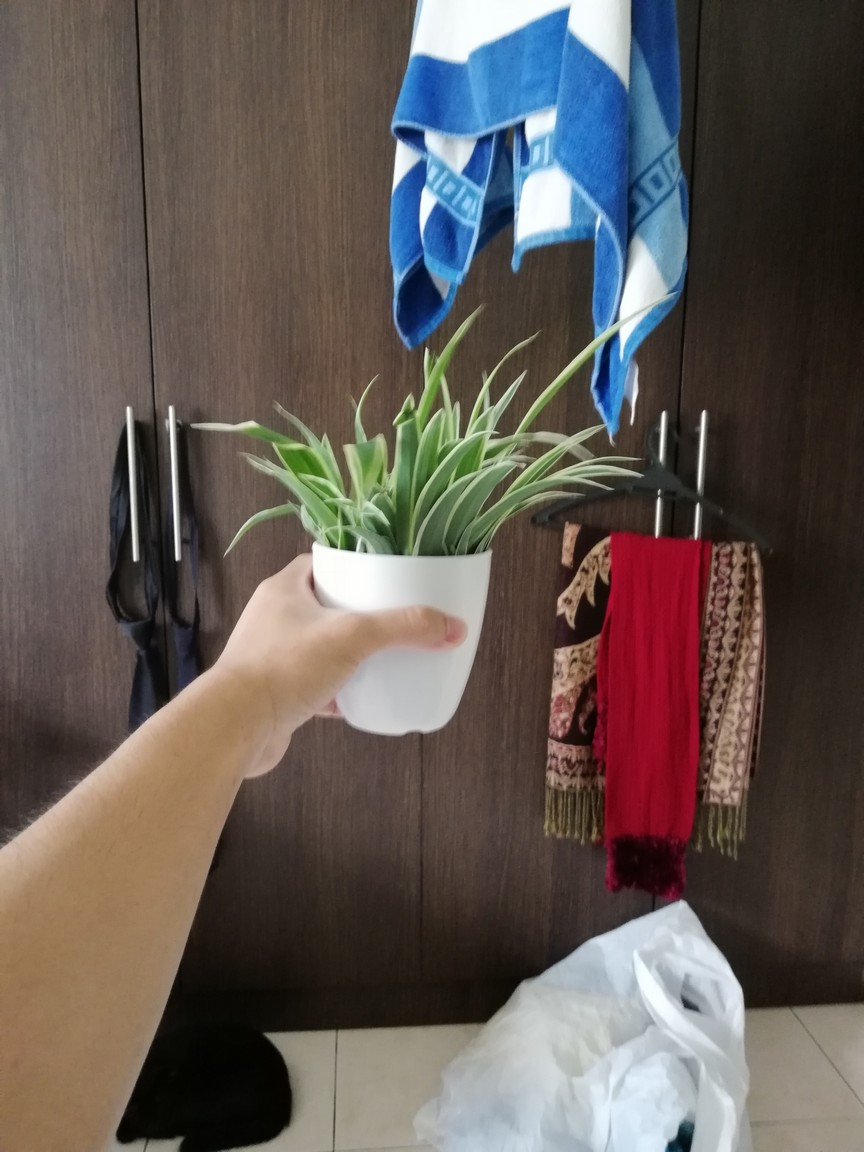daun: (555, 288, 685, 423), (223, 498, 292, 558), (177, 414, 285, 452), (340, 437, 388, 511), (342, 369, 388, 439), (439, 300, 490, 362), (542, 423, 613, 463), (232, 450, 299, 491), (443, 429, 500, 466), (495, 326, 543, 366), (273, 396, 316, 440), (493, 367, 529, 416), (515, 489, 588, 512), (295, 468, 343, 499), (523, 477, 628, 490), (422, 405, 447, 450), (571, 465, 646, 479), (575, 455, 645, 465), (482, 365, 492, 413), (320, 430, 334, 459), (452, 397, 462, 436)
